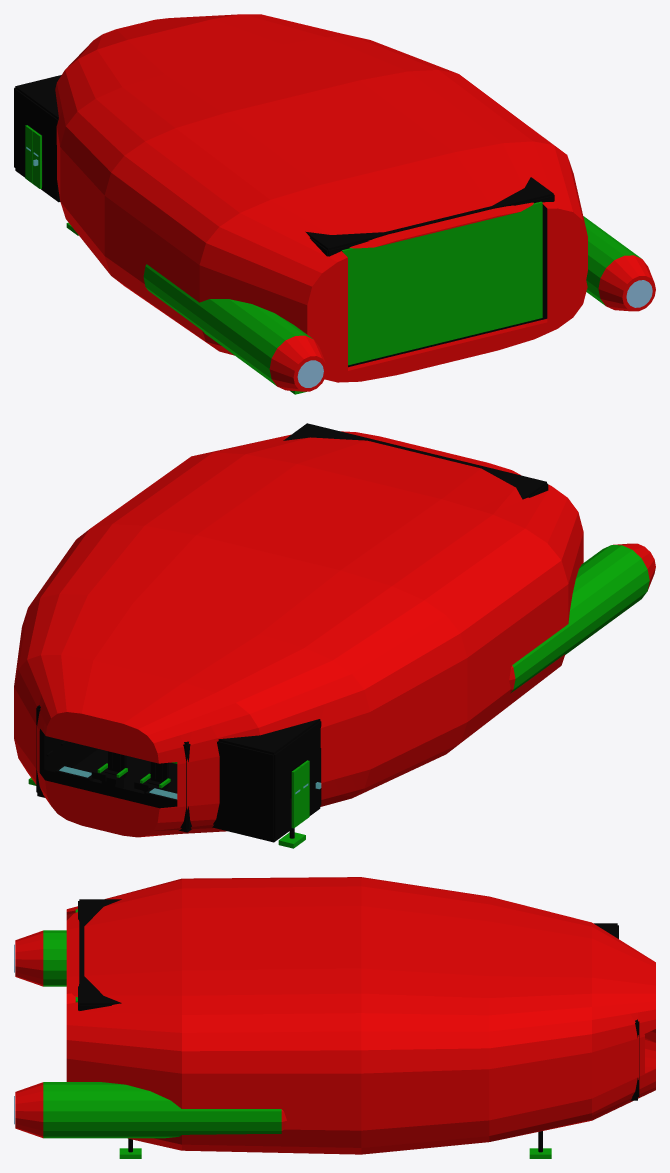
Rendered from shorebird.glb.
3 renders of one model, top to bottom at view 1: azimuth 30°, elevation 25°; view 2: azimuth 150°, elevation 25°; view 3: azimuth 270°, elevation 25°, orthographic. The views are drawn at different scales.
Visible parts, largest first — view 1: horizon_shorebird:civilian_lifting_body, horizon_shorebird:cargo_ramp, horizon_shorebird:field_drive_1, horizon_shorebird:field_drive_2, horizon_shorebird:room_bridge-eva, horizon_shorebird:ceiling_garage, horizon_shorebird:room_garage, horizon_shorebird:ceiling_bridge-eva; view 2: horizon_shorebird:civilian_lifting_body, horizon_shorebird:room_bridge-eva, horizon_shorebird:field_drive_1, horizon_shorebird:room_bridge, horizon_shorebird:ceiling_garage, horizon_shorebird:ceiling_bridge-eva, horizon_shorebird:seat_1, horizon_shorebird:door_bridge-eva-outer_-1; view 3: horizon_shorebird:civilian_lifting_body, horizon_shorebird:field_drive_2, horizon_shorebird:field_drive_1, horizon_shorebird:ceiling_garage.
Part boxes in pixels (x1,y1,x2,y2): horizon_shorebird:civilian_lifting_body: [55, 14, 587, 382]; horizon_shorebird:cargo_ramp: [341, 201, 542, 365]; horizon_shorebird:field_drive_1: [143, 264, 326, 391]; horizon_shorebird:field_drive_2: [583, 216, 655, 311]; horizon_shorebird:room_bridge-eva: [14, 87, 60, 202]; horizon_shorebird:ceiling_garage: [305, 177, 553, 250]; horizon_shorebird:room_garage: [310, 194, 554, 367]; horizon_shorebird:ceiling_bridge-eva: [15, 75, 61, 119]; horizon_shorebird:civilian_lifting_body: [14, 431, 583, 837]; horizon_shorebird:room_bridge-eva: [212, 721, 321, 842]; horizon_shorebird:field_drive_1: [509, 543, 655, 693]; horizon_shorebird:room_bridge: [36, 707, 191, 832]; horizon_shorebird:ceiling_garage: [283, 423, 546, 499]; horizon_shorebird:ceiling_bridge-eva: [218, 719, 320, 754]; horizon_shorebird:seat_1: [97, 751, 127, 788]; horizon_shorebird:door_bridge-eva-outer_-1: [291, 766, 301, 828]; horizon_shorebird:civilian_lifting_body: [66, 877, 655, 1154]; horizon_shorebird:field_drive_2: [14, 1082, 286, 1138]; horizon_shorebird:field_drive_1: [14, 930, 66, 986]; horizon_shorebird:ceiling_garage: [79, 899, 121, 1004].
Size of the model in its own units: 16.2 by 7.08 by 25.05.
